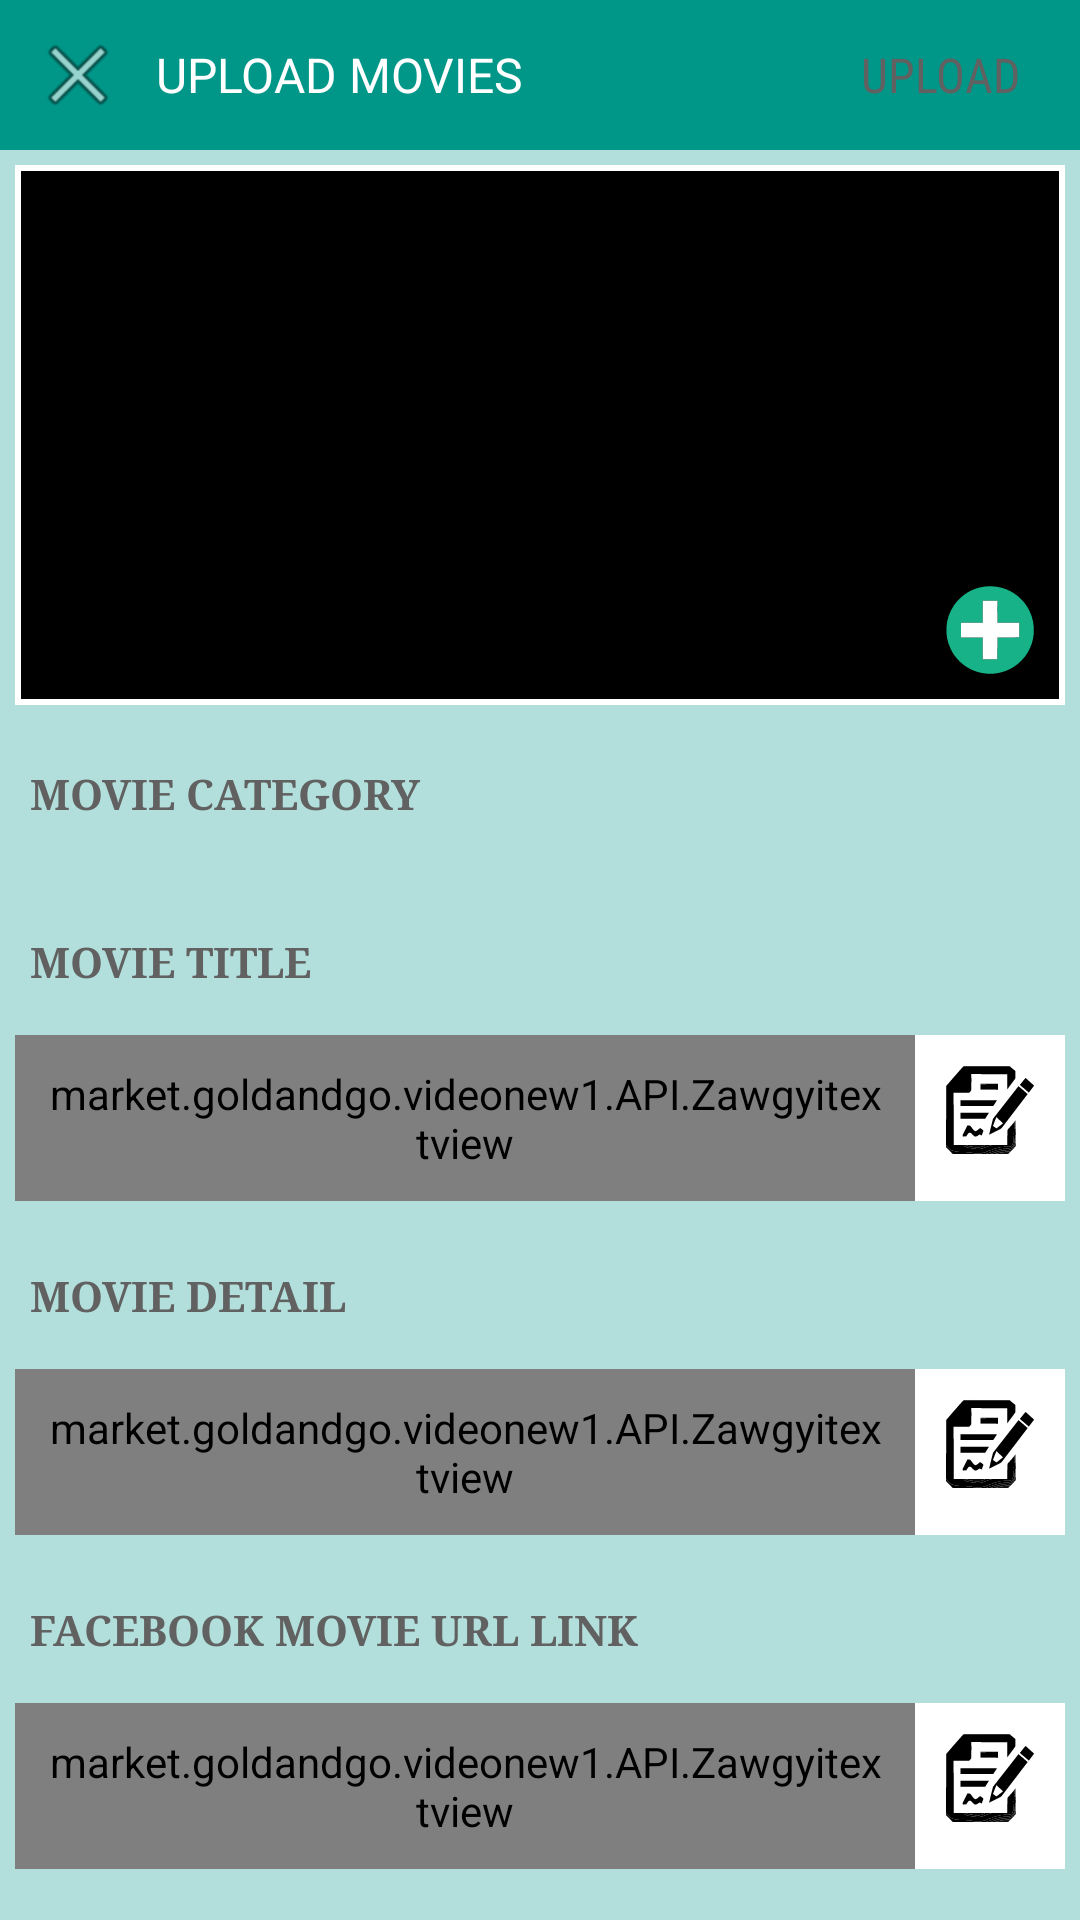

Named icons in this screenshot (1080*1920) and their bounding boxes, (x1, y1, x2, y2):
addimage: (946, 586, 1034, 674)
close clear cancel: (48, 45, 108, 105)
edit: (946, 1066, 1034, 1154), (946, 1400, 1034, 1488), (946, 1734, 1034, 1822)
